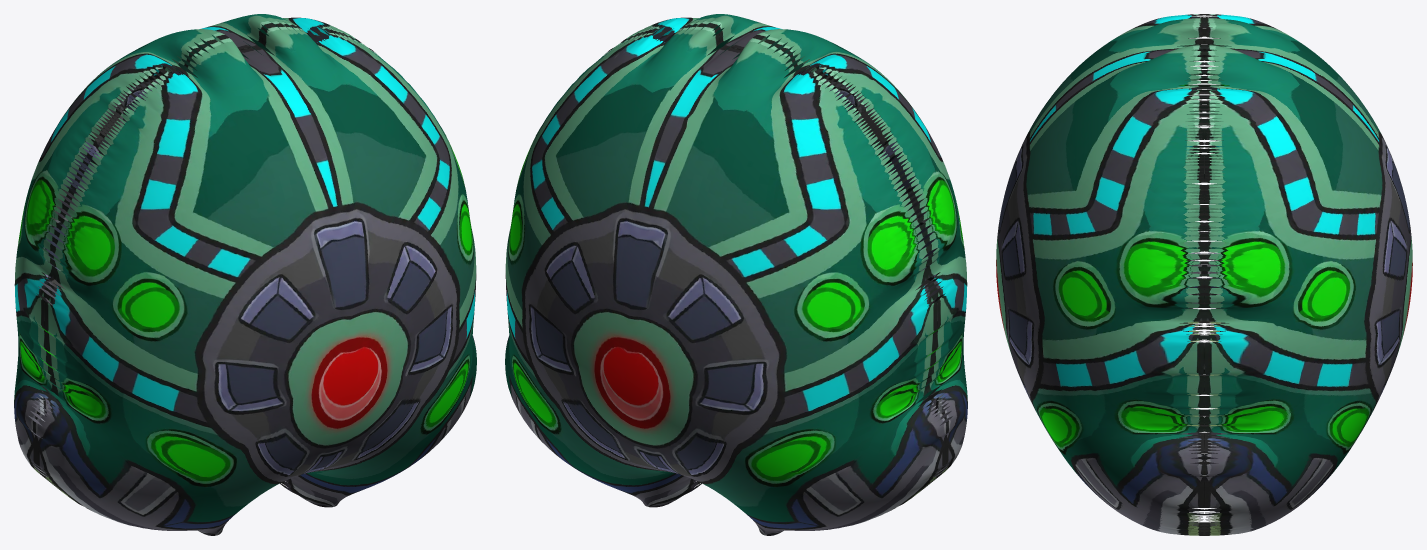
Rendered from reactor_tower.glb.
3 views of the same model, side by side, from view 1: azimuth 30°, elevation 25°; view 2: azimuth 150°, elevation 25°; view 3: azimuth 270°, elevation 25° (orthographic). The views are drawn at different scales.
Visible parts, largest first — view 1: reactor_tower; view 2: reactor_tower; view 3: reactor_tower.
Part boxes in pixels (x1,y1,x2,y2): reactor_tower: [14, 14, 476, 535]; reactor_tower: [505, 14, 967, 535]; reactor_tower: [996, 14, 1412, 535].
Bounding box in the file's own units: 0.9882 × 1.05 × 0.869.
1 material, 1 textured.
